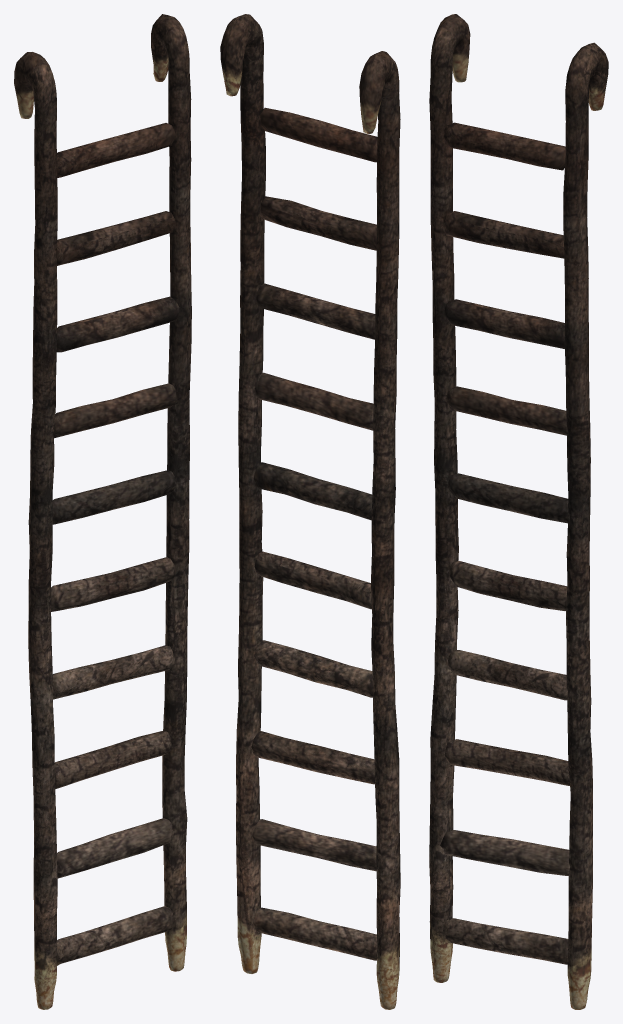
Rendered from Little guy Ladder.FBX.
3 renders of one model, left to right at view 1: azimuth 30°, elevation 25°; view 2: azimuth 150°, elevation 25°; view 3: azimuth 330°, elevation 25°, orthographic.
Parts seen in each view (by area): view 1: Ladder Zbrush model; view 2: Ladder Zbrush model; view 3: Ladder Zbrush model.
Boxes of the visible parts, x1,y1,x2,y2 form: Ladder Zbrush model: (14,14,191,1009); Ladder Zbrush model: (220,14,400,1009); Ladder Zbrush model: (429,14,608,1009).
Bounding box in the file's own units: 116 × 40.62 × 666.
